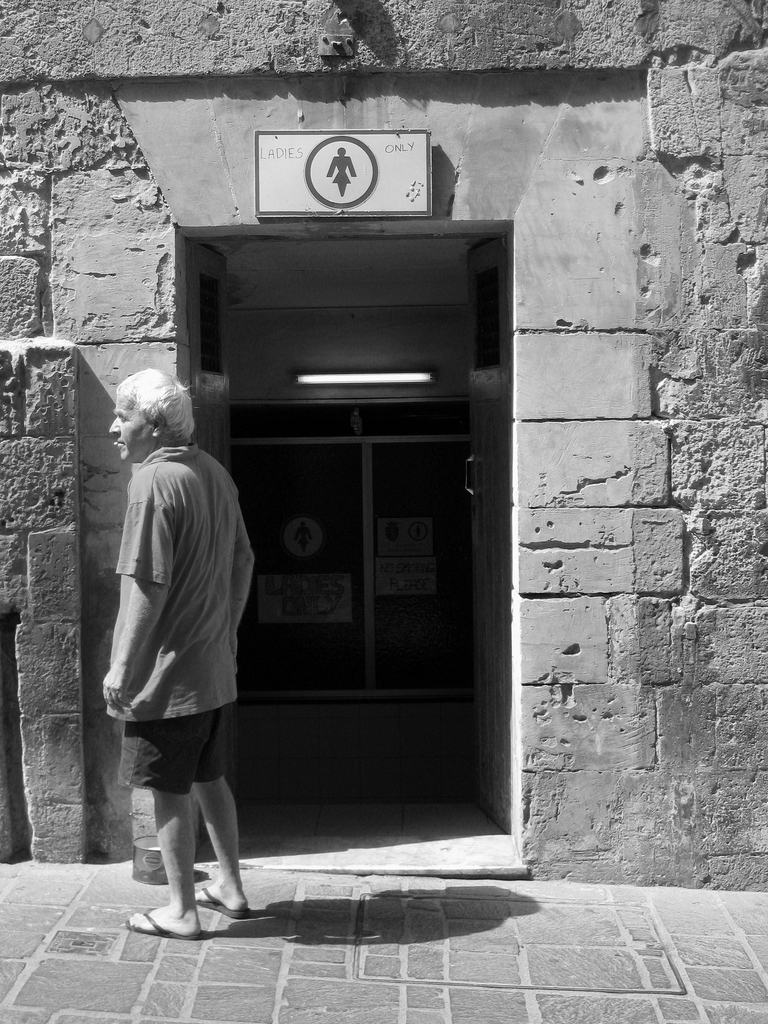Door: (186, 234, 513, 861)
